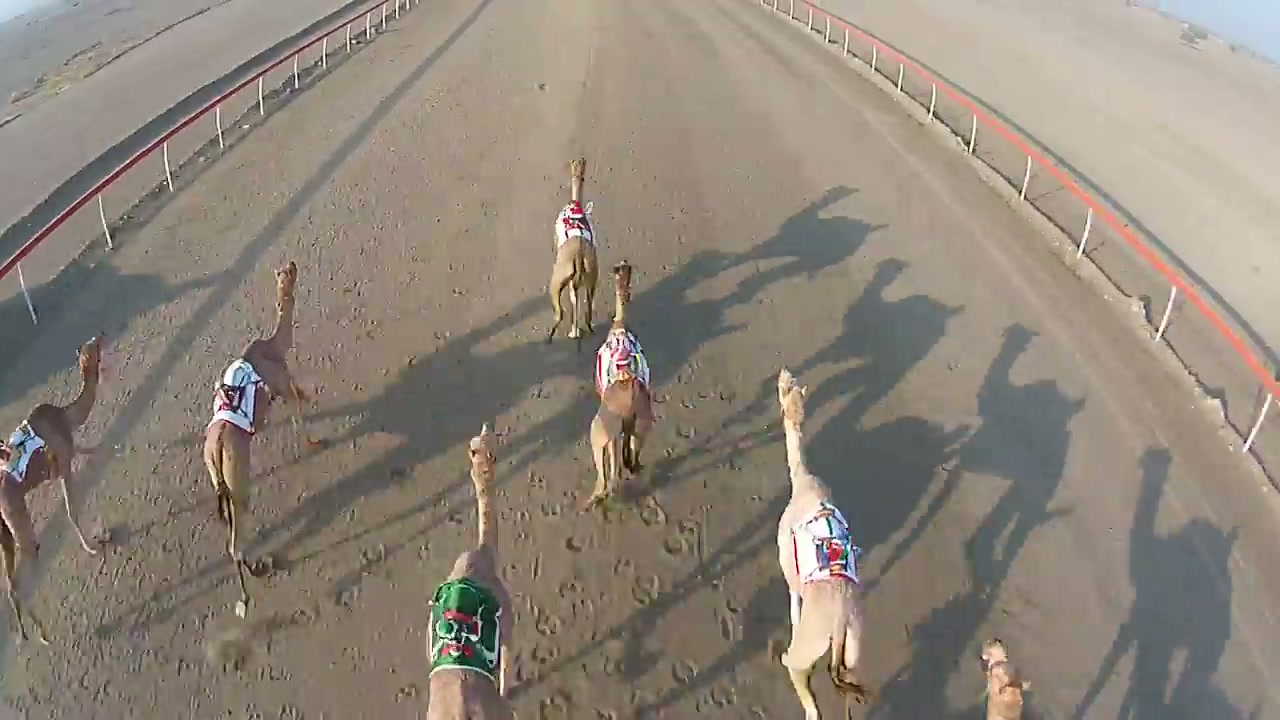animal_foot_print: (511, 479, 764, 719), (148, 608, 337, 719)
